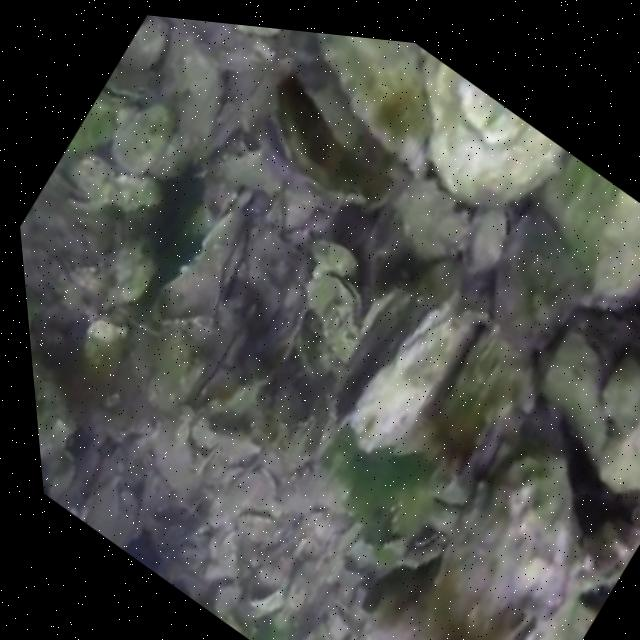Oyster-Closed: (334, 289, 462, 452), (534, 155, 640, 315), (539, 322, 611, 457)
Oyster-Indeterminate: (412, 453, 573, 640), (421, 48, 570, 206)
Oyster-Open: (285, 30, 432, 192), (266, 45, 390, 215), (424, 313, 516, 462), (101, 63, 145, 104)
